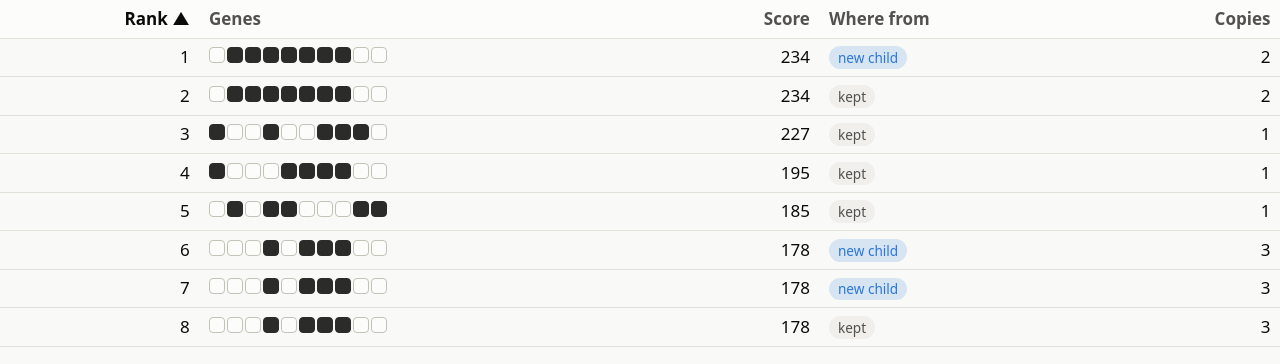
Test: PopulationTable › sorts by a column clicked, and the other way on a second click
Click the column heading "Copies": {"x": 1191, "y": 19} [1103,0,1279,38]
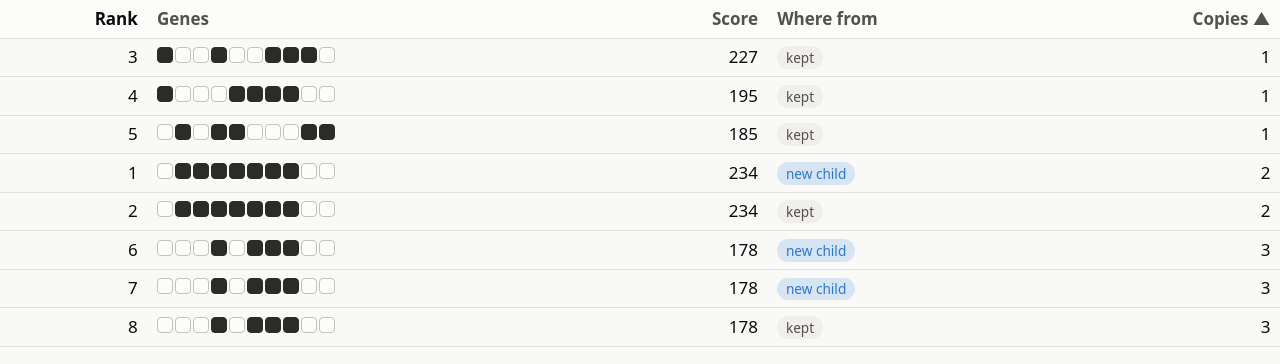
Check: the column heading "Copies" reads "Copies ▲", box [1193,7,1270,30]
Click the column heading "Copies": {"x": 1165, "y": 19} [1051,0,1279,38]
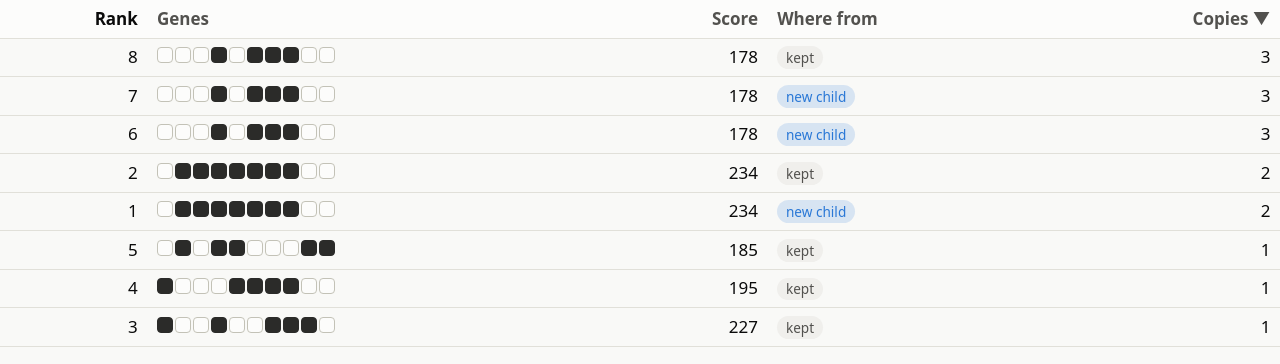
Check: the column heading "Copies" reads "Copies ▼", box [1193,7,1270,30]
